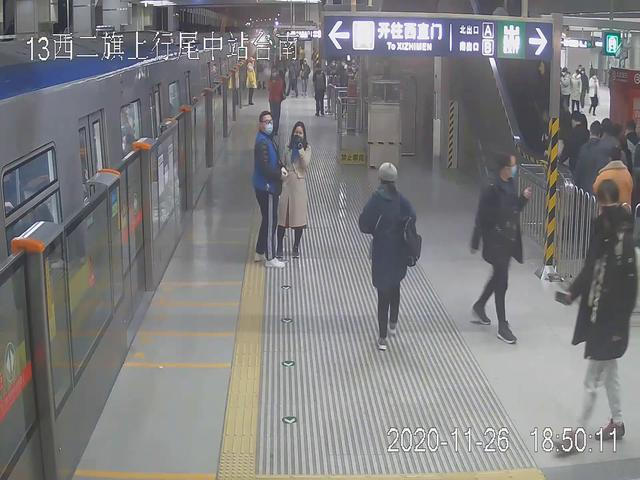person: (563, 176, 640, 447), (356, 158, 417, 355), (470, 146, 528, 345), (245, 105, 290, 269), (281, 116, 316, 271), (266, 65, 286, 138), (312, 60, 326, 125)
